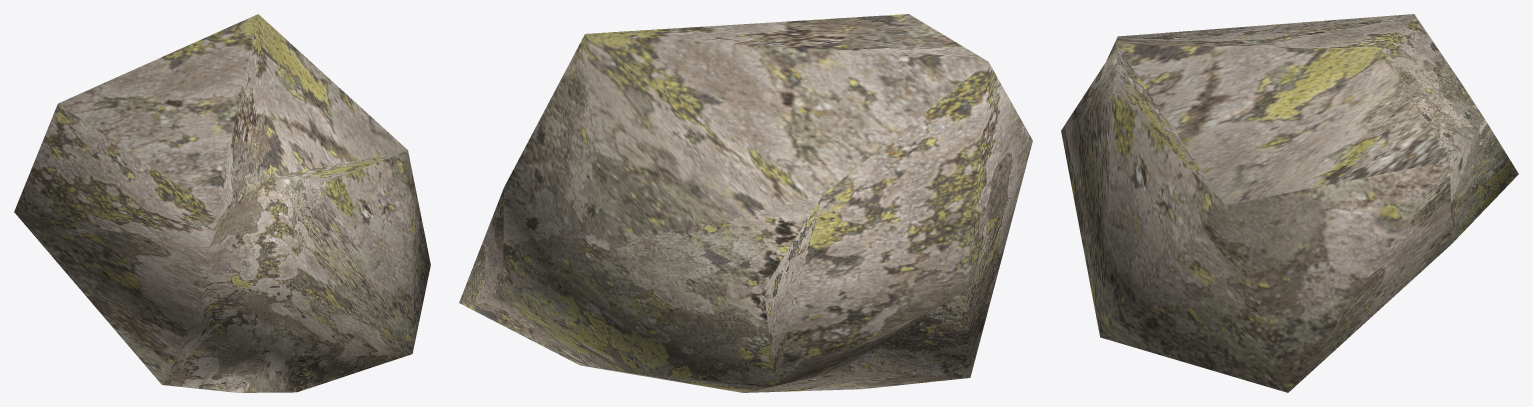
File: rock_02.fbx
3 renders of one model, left to right at view 1: azimuth 30°, elevation 25°; view 2: azimuth 150°, elevation 25°; view 3: azimuth 270°, elevation 25°, orthographic. The views are drawn at different scales.
Visible parts, largest first — view 1: rock_02; view 2: rock_02; view 3: rock_02.
Boxes of the visible parts, x1,y1,x2,y2 form: rock_02: (14,14,430,392); rock_02: (459,14,1032,392); rock_02: (1061,14,1518,392).
Size of the model in its own units: 34.78 by 25.01 by 32.87.
1 material, 1 textured.
